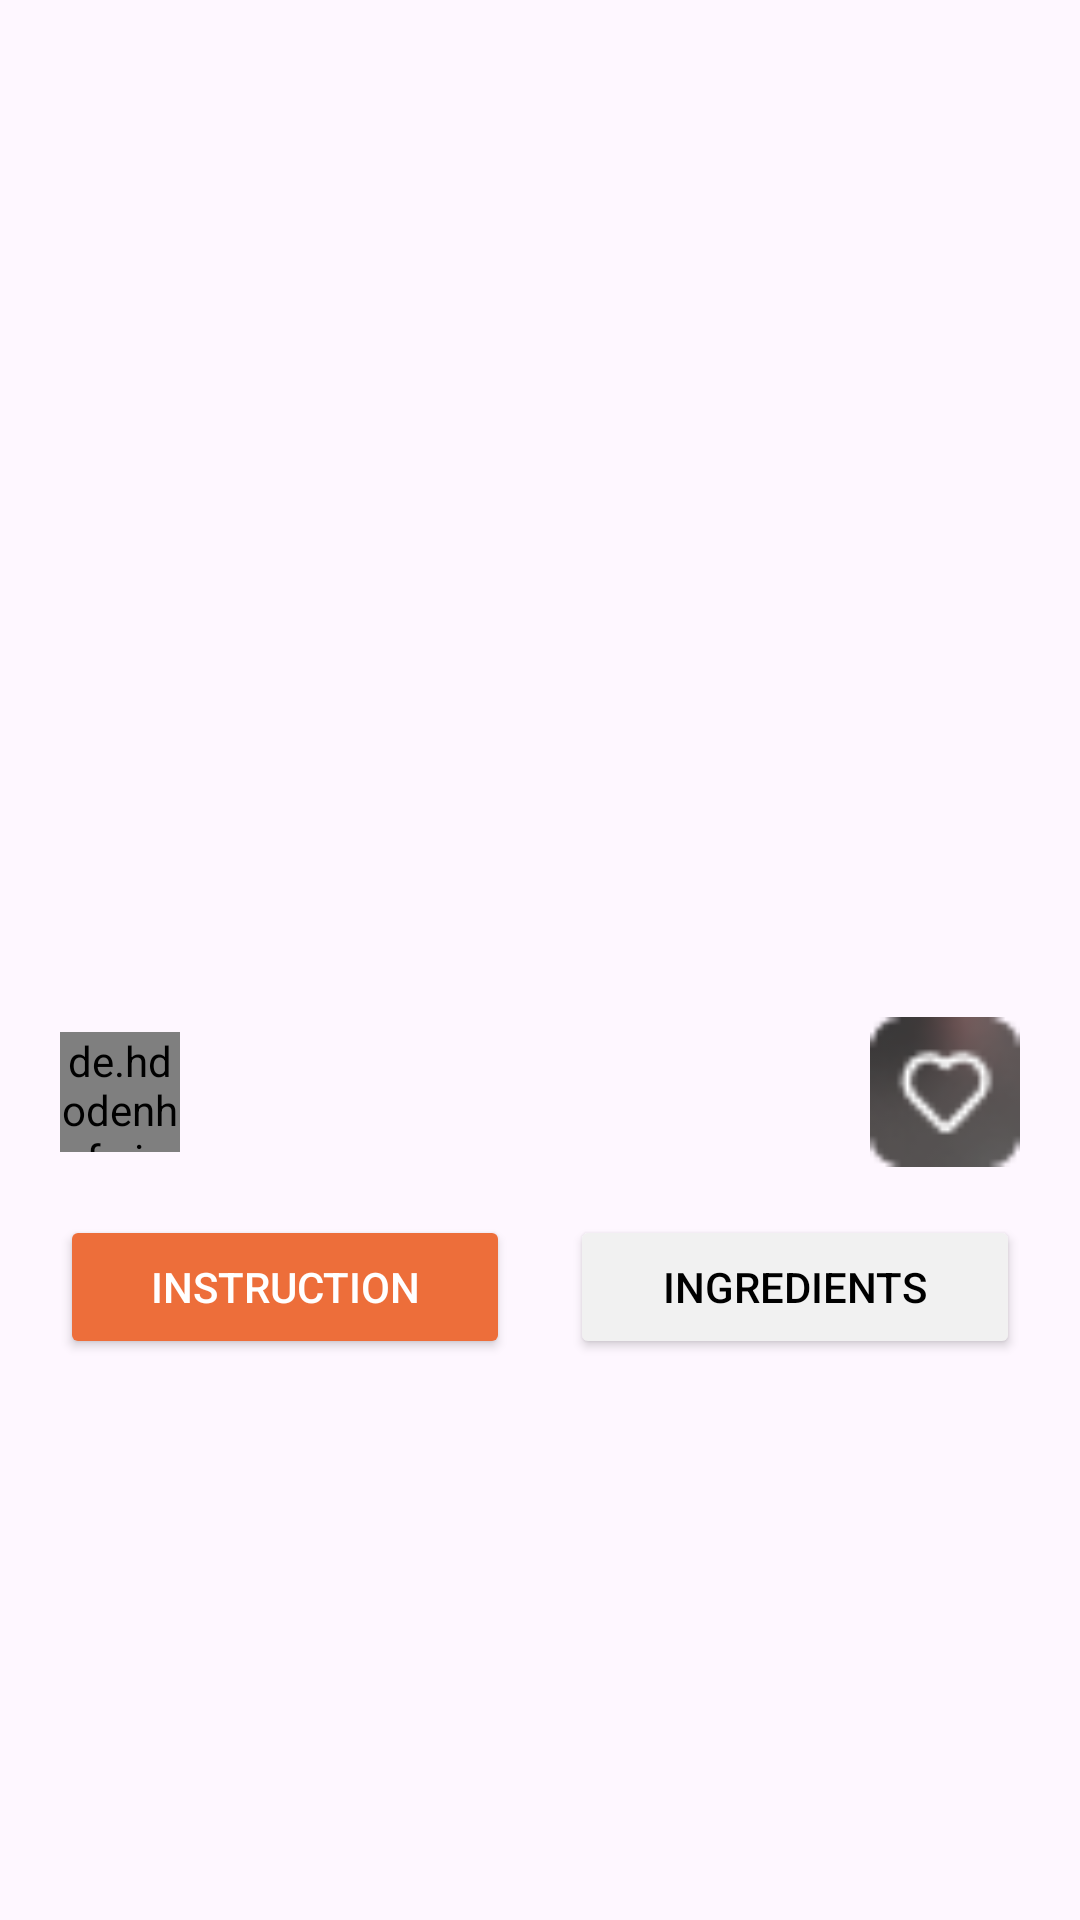

Icons on this 1080w x 1920h Android screen, each with the point to tap as point (x, y):
save: point (945, 1092)
